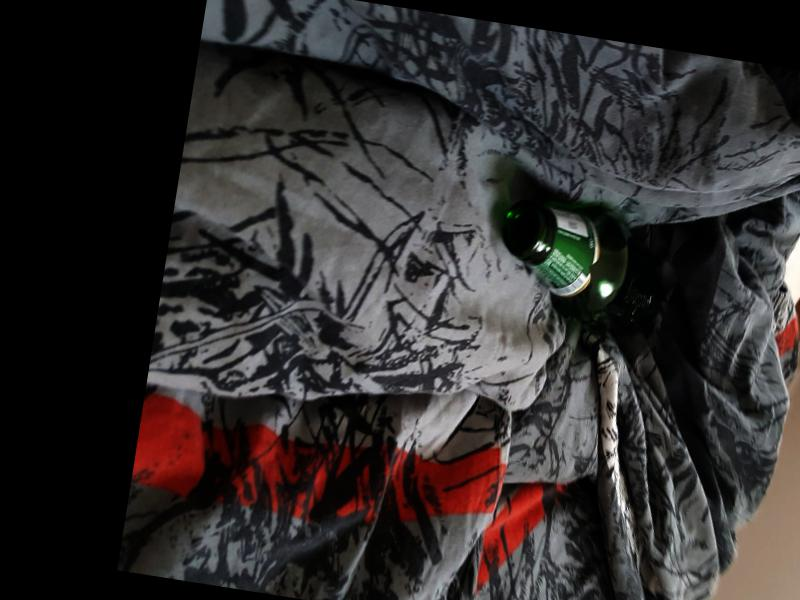Beer: (488, 191, 675, 339)
